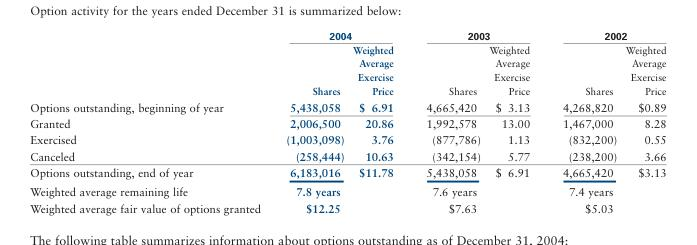table: (29, 29, 665, 214)
table column: (29, 29, 272, 214), (272, 29, 347, 214), (409, 29, 484, 214), (545, 29, 620, 214), (347, 29, 409, 214), (484, 29, 545, 214), (620, 29, 665, 214)
table column header: (29, 29, 665, 98)
table row: (29, 41, 665, 98), (29, 163, 665, 181), (29, 181, 665, 199), (29, 114, 665, 131), (29, 98, 665, 114), (29, 131, 665, 147), (29, 147, 665, 163), (29, 199, 665, 214), (29, 29, 665, 41)
table spanning cell: (272, 29, 409, 41), (409, 29, 545, 41), (545, 29, 665, 41)
